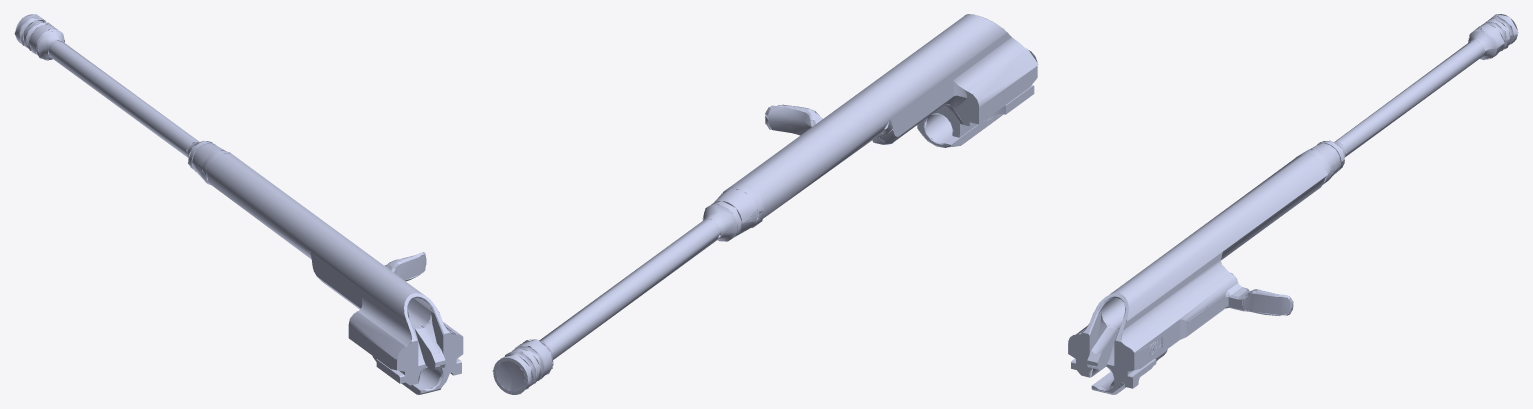
The model's file is ak12_bolt_carrier.glb.
3 views of the same model, side by side, from view 1: azimuth 30°, elevation 25°; view 2: azimuth 150°, elevation 25°; view 3: azimuth 330°, elevation 25° (orthographic). The views are drawn at different scales.
Parts seen in each view (by area): view 1: AK12_Bolt_Carrier; view 2: AK12_Bolt_Carrier; view 3: AK12_Bolt_Carrier.
Part boxes in pixels (x1,y1,x2,y2): AK12_Bolt_Carrier: (14,14,463,394); AK12_Bolt_Carrier: (492,14,1038,394); AK12_Bolt_Carrier: (1068,14,1518,394).
Size of the model in its own units: 0.0621 by 0.0423 by 0.3447.
